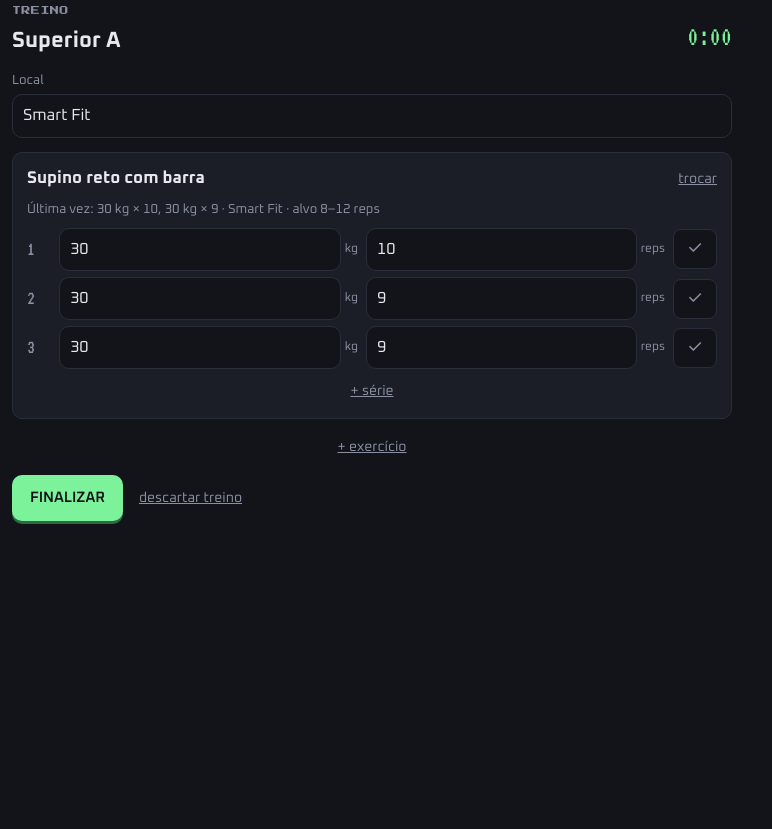
Test: SessaoTreino › marcar a série salva na hora e começa o descanso
Replace the text in the field named "carga" with "32.5" at (200, 249), box [59,228,341,271]
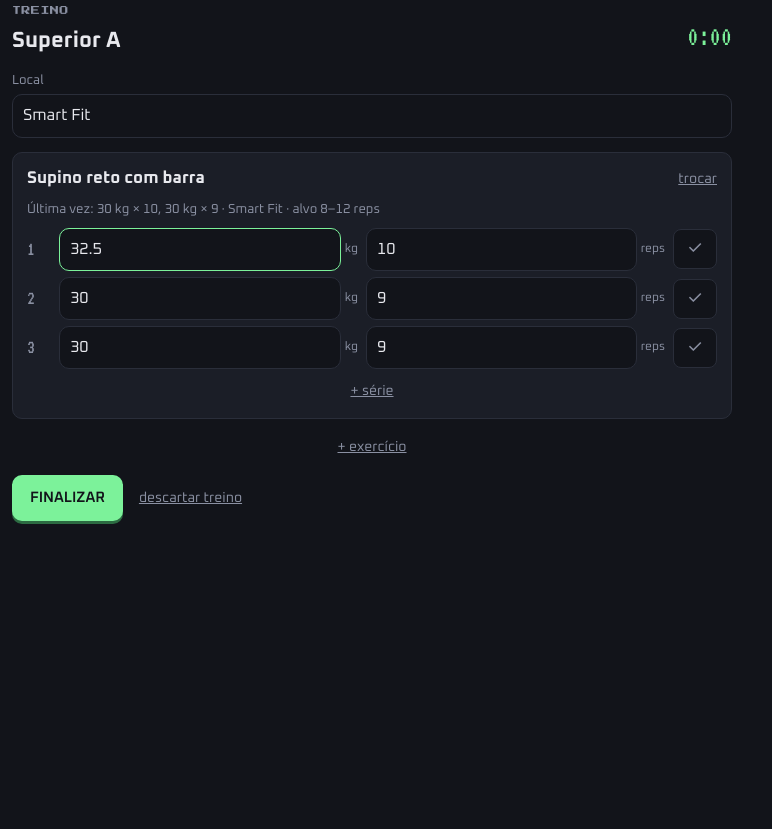
Click the button named "marcar série" at (695, 249), box [673,229,717,269]
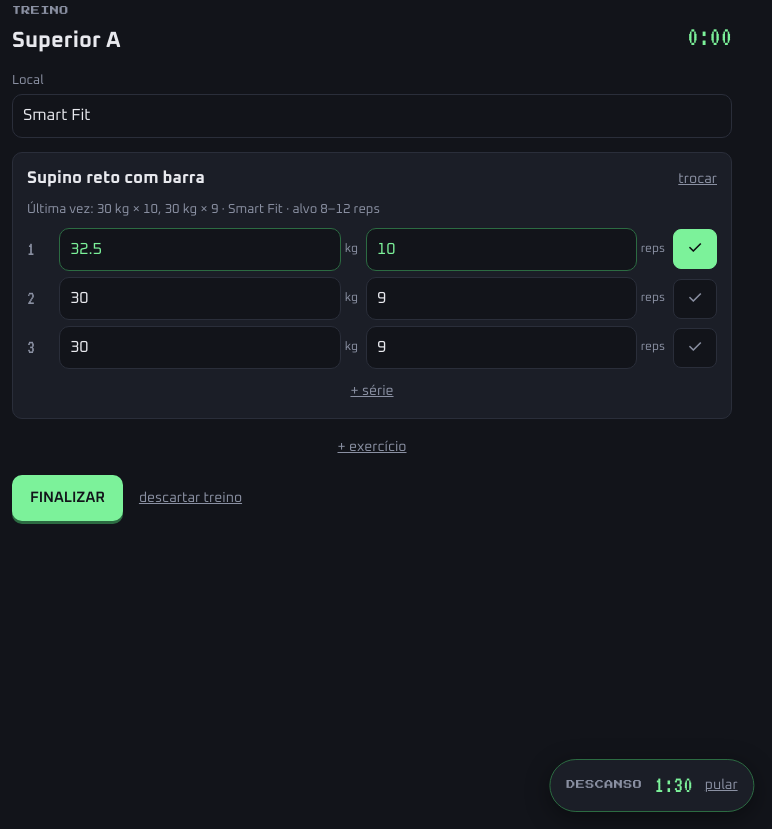
Expected: the number of buttons named "desmarcar série" is 1, [673,229,717,269]
Expected: the element "DESCANSO 1:30 pular" is shown, [549,759,755,812]
